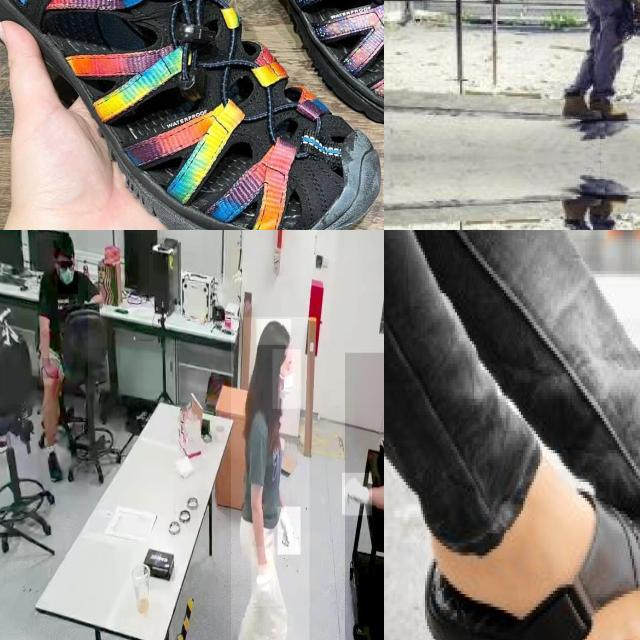Sandals: (0, 0, 384, 230), (422, 478, 640, 640), (172, 0, 384, 158)
face_mask: (273, 349, 301, 409), (58, 261, 78, 295)
hand_glove: (251, 547, 276, 607), (342, 473, 372, 515), (278, 506, 300, 554)
hand_noglove: (42, 358, 60, 380)
head_nohelmet: (256, 319, 292, 346), (52, 230, 74, 251)
person: (231, 317, 310, 640), (38, 230, 88, 497), (345, 353, 384, 640), (562, 0, 640, 125)
shoes: (586, 92, 630, 124), (560, 95, 603, 124), (44, 444, 64, 486)
